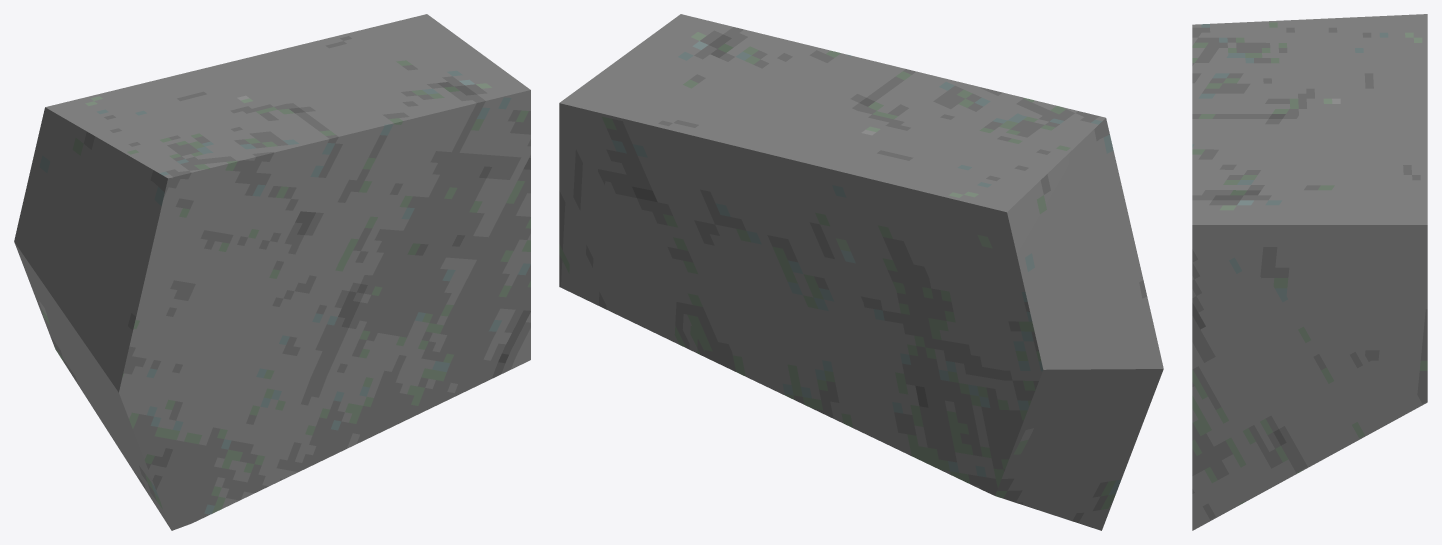
Rendered from barriar_cell_002.glb.
3 renders of one model, left to right at view 1: azimuth 30°, elevation 25°; view 2: azimuth 150°, elevation 25°; view 3: azimuth 270°, elevation 25°, orthographic. The views are drawn at different scales.
Visible parts, largest first — view 1: Barriar_cell.002; view 2: Barriar_cell.002; view 3: Barriar_cell.002.
Part boxes in pixels (box(x1,y1,x2,y2)): Barriar_cell.002: box(14, 14, 530, 530); Barriar_cell.002: box(559, 14, 1163, 530); Barriar_cell.002: box(1192, 14, 1427, 530).
Bounding box in the file's own units: 0.9515 × 0.778 × 0.4141.
Materials: 1 (1 with a texture image).
